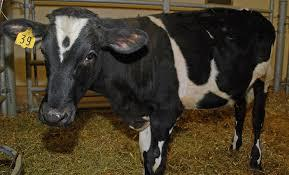cow: (3, 7, 275, 175)
